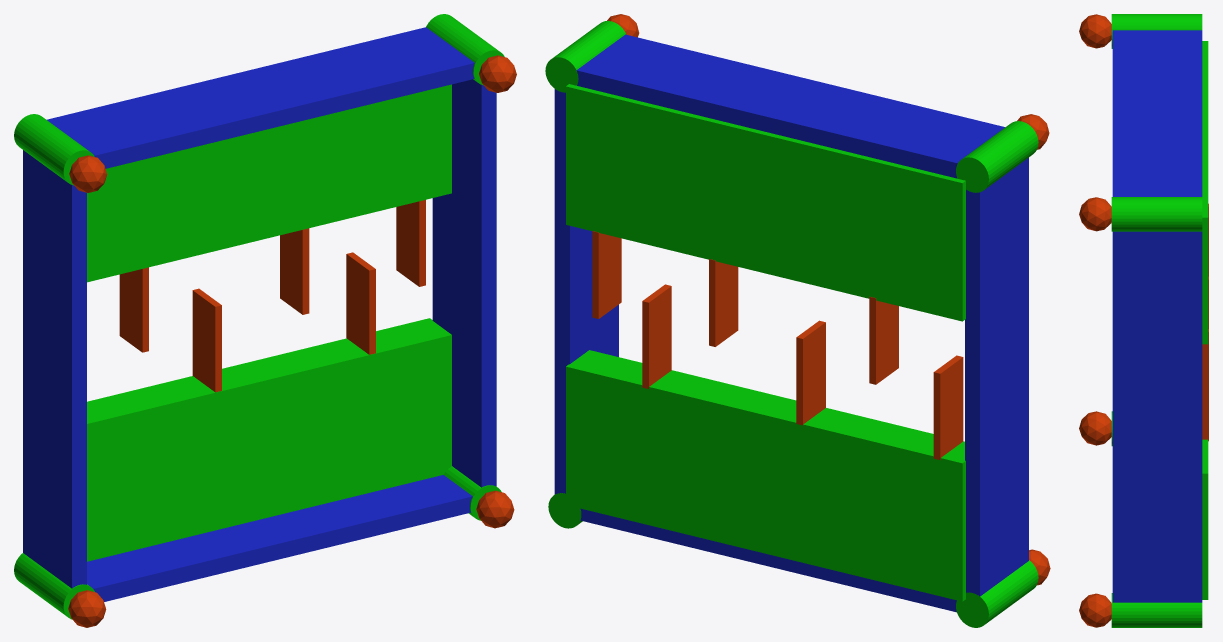
File: curved_corridors.obj
3 views of the same model, side by side, from view 1: azimuth 30°, elevation 25°; view 2: azimuth 150°, elevation 25°; view 3: azimuth 270°, elevation 25° (orthographic). The views are drawn at different scales.
Parts seen in each view (by area): view 1: Cube.007, Cube.006, Cube.003, Cube.001, Cube.004, Cube.002, Cube.008, Cylinder.002, Cube.010, Cube.011, Cube.009, Cube.012 (+7 smaller); view 2: Cube.007, Cube.006, Cube.003, Cube.001, Cube.004, Cube.002, Cylinder.002, Cube.013, Cube.008, Cube.010, Cylinder.001, Cylinder.003 (+4 smaller); view 3: Cube.004, Cube.001, Cylinder.003, Cylinder, Cube.006, Cylinder.002, Cube.007, Icosphere, Icosphere.002, Icosphere.003, Icosphere.001, Cube.011 (+1 smaller).
Part boxes in pixels (<box>): Cube.007: <box>87,318,451,561</box>; Cube.006: <box>87,84,451,282</box>; Cube.003: <box>23,150,86,588</box>; Cube.001: <box>46,27,474,168</box>; Cube.004: <box>432,79,496,487</box>; Cube.002: <box>87,475,472,601</box>; Cube.008: <box>192,288,221,392</box>; Cylinder.002: <box>14,114,94,185</box>; Cube.010: <box>346,252,375,354</box>; Cube.011: <box>396,200,425,286</box>; Cube.009: <box>280,228,309,314</box>; Cube.012: <box>119,267,148,352</box>; Cube.007: <box>566,350,965,601</box>; Cube.006: <box>566,84,965,321</box>; Cube.003: <box>965,157,1028,596</box>; Cube.001: <box>576,34,1005,178</box>; Cube.004: <box>554,89,618,494</box>; Cube.002: <box>580,508,956,612</box>; Cylinder.002: <box>956,121,1038,192</box>; Cube.013: <box>933,355,963,460</box>; Cube.008: <box>796,320,825,425</box>; Cube.010: <box>642,284,671,388</box>; Cylinder.001: <box>956,560,1038,627</box>; Cylinder.003: <box>545,21,625,92</box>; Cube.004: <box>1112,231,1202,602</box>; Cube.001: <box>1112,30,1202,196</box>; Cylinder.003: <box>1111,197,1202,231</box>; Cylinder: <box>1111,593,1202,627</box>; Cube.006: <box>1202,41,1208,344</box>; Cylinder.002: <box>1111,14,1202,48</box>; Cube.007: <box>1202,439,1208,599</box>; Icosphere: <box>1079,14,1111,48</box>; Icosphere.002: <box>1079,593,1111,627</box>; Icosphere.003: <box>1079,411,1111,445</box>; Icosphere.001: <box>1079,197,1111,231</box>; Cube.011: <box>1202,329,1208,410</box>.
Bounding box in the file's own units: 26.85 × 27.16 × 7.45.
